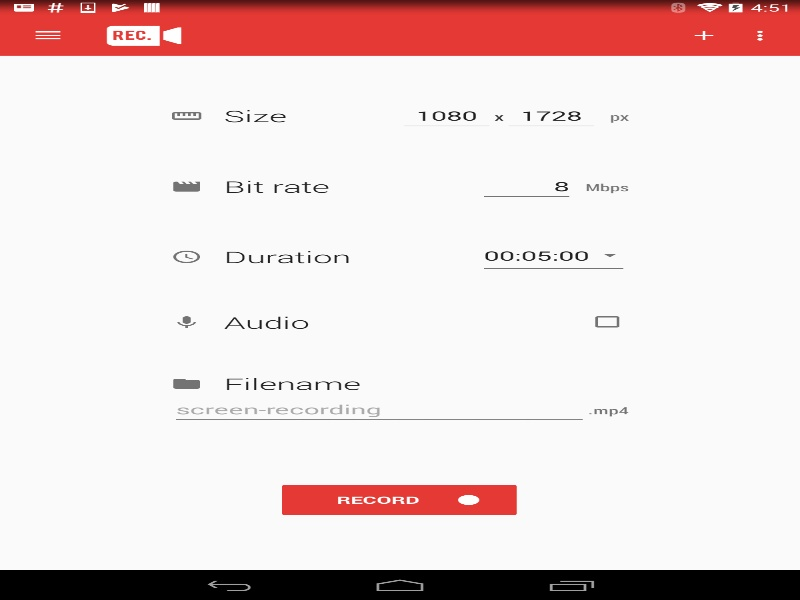Button: (282, 485, 516, 515), (478, 241, 628, 271), (10, 15, 85, 55)
Input: (170, 394, 588, 425), (398, 100, 494, 131), (503, 100, 599, 131), (478, 171, 574, 201)
